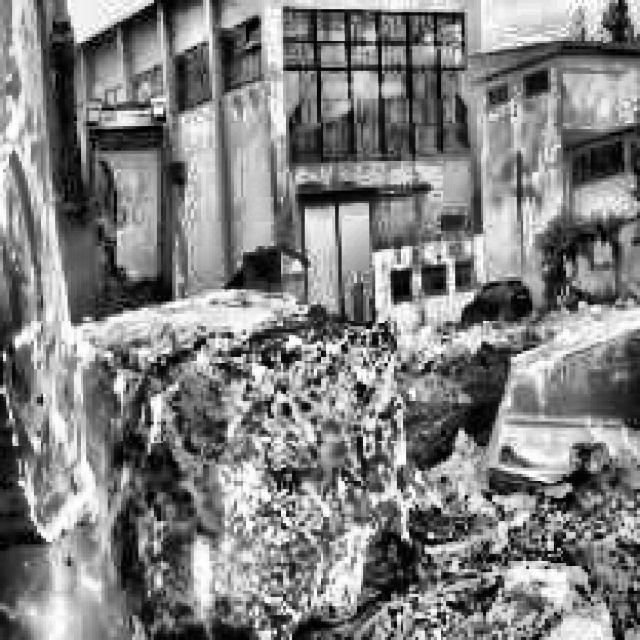dump_truck: (474, 194, 640, 477)
excavator: (0, 0, 185, 582)
